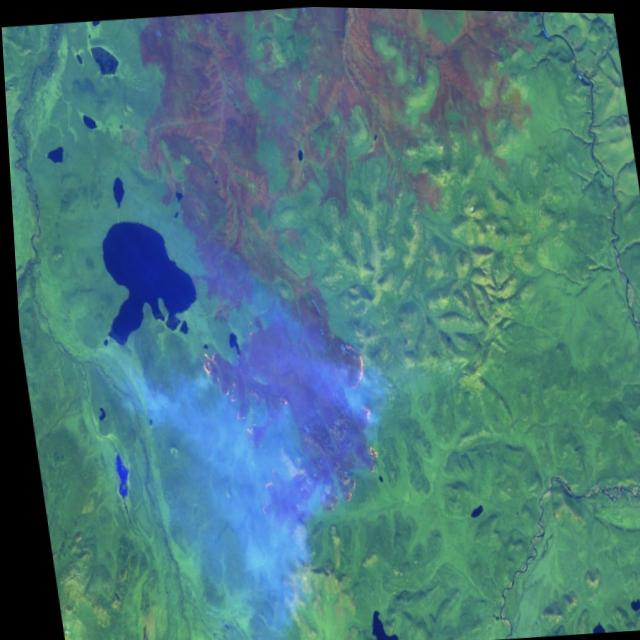fire: (188, 318, 394, 565)
